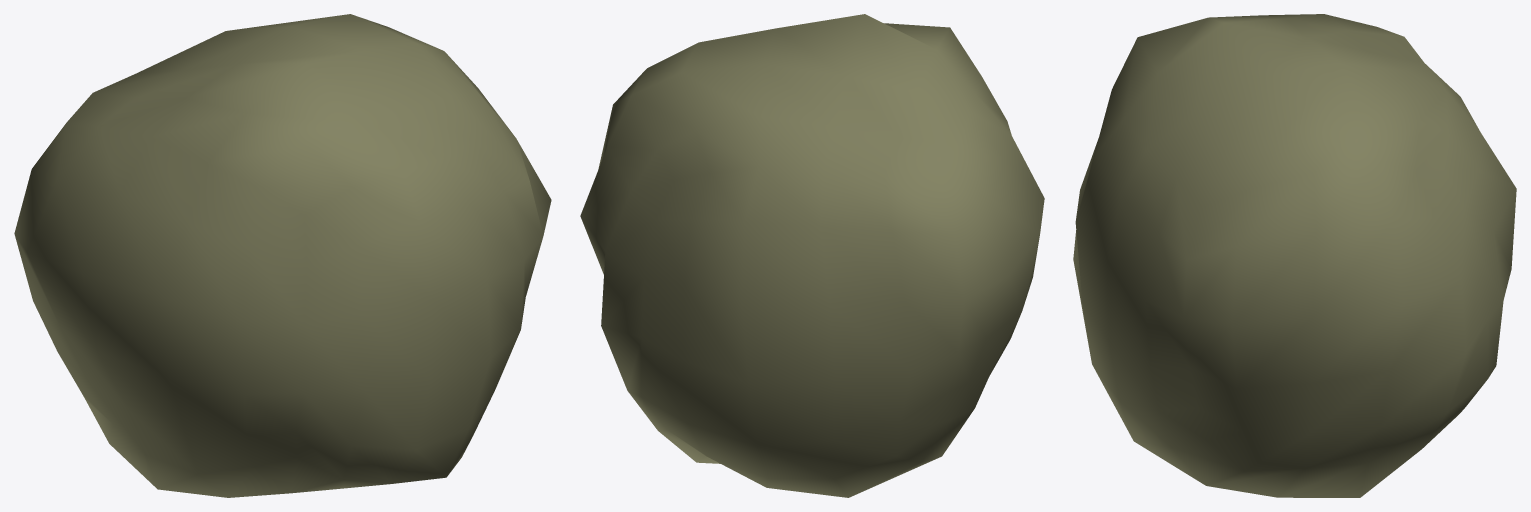
File: rock07small.fbx
3 views of the same model, side by side, from view 1: azimuth 30°, elevation 25°; view 2: azimuth 150°, elevation 25°; view 3: azimuth 270°, elevation 25° (orthographic). The views are drawn at different scales.
Visible parts, largest first — view 1: rock07small; view 2: rock07small; view 3: rock07small.
Boxes of the visible parts, x1,y1,x2,y2 form: rock07small: [14, 14, 551, 497]; rock07small: [580, 14, 1044, 497]; rock07small: [1073, 14, 1516, 497].
Size of the model in its own units: 0.6543 by 0.609 by 0.5751.
